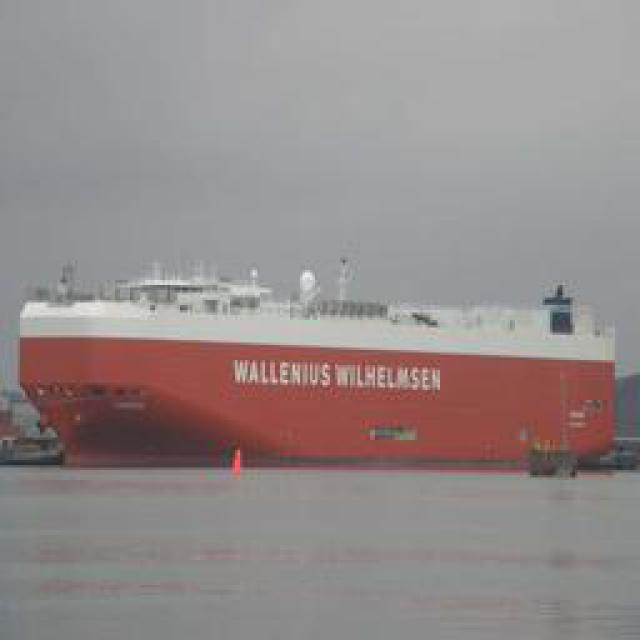Ship: (15, 266, 623, 471)
